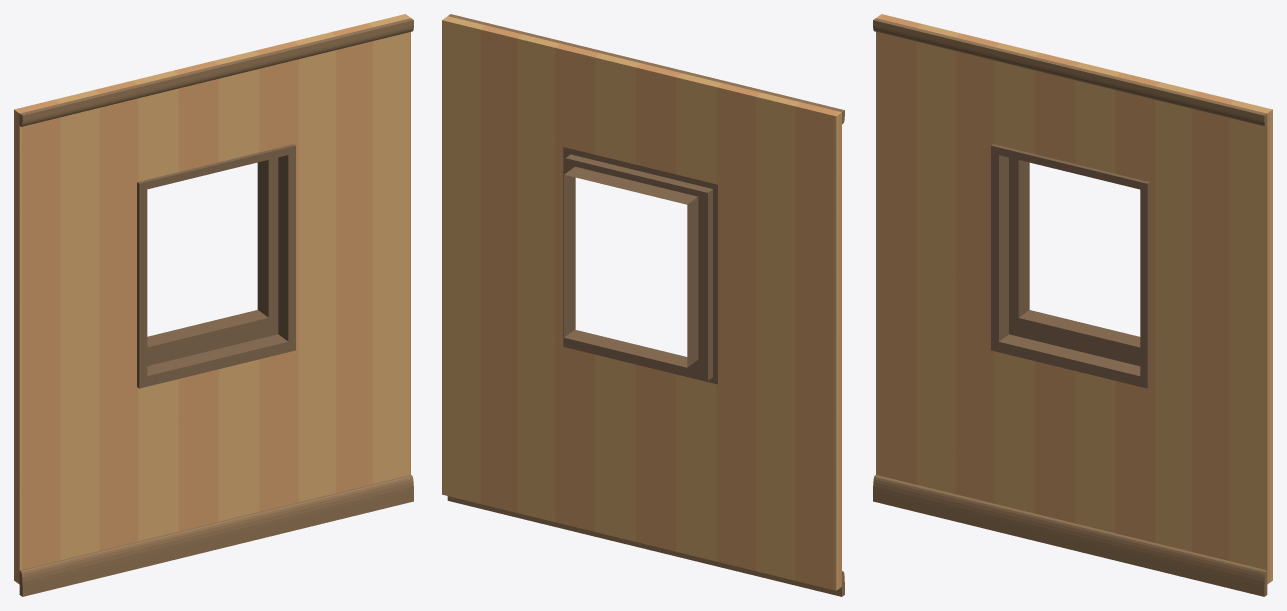
Rendered from House_windowV2.fbx.
3 views of the same model, side by side, from view 1: azimuth 30°, elevation 25°; view 2: azimuth 150°, elevation 25°; view 3: azimuth 330°, elevation 25° (orthographic).
Visible parts, largest first — view 1: wall_basic.002, window, plint_floor.003, plint_floor.002; view 2: wall_basic.002, window, plint_floor.003, plint_floor.002; view 3: wall_basic.002, window, plint_floor.003, plint_floor.002.
Boxes of the visible parts, <box> form: wall_basic.002: <box>14,14,410,584</box>; window: <box>137,144,295,388</box>; plint_floor.003: <box>19,475,413,596</box>; plint_floor.002: <box>19,18,413,126</box>; wall_basic.002: <box>442,16,841,590</box>; window: <box>563,147,717,384</box>; plint_floor.003: <box>447,496,844,596</box>; plint_floor.002: <box>448,14,844,124</box>; wall_basic.002: <box>876,14,1272,584</box>; window: <box>991,144,1149,388</box>; plint_floor.003: <box>873,475,1267,596</box>; plint_floor.002: <box>873,18,1267,126</box>.
Size of the model in its own units: 200 by 235 by 19.25.
4 materials, 1 textured.
